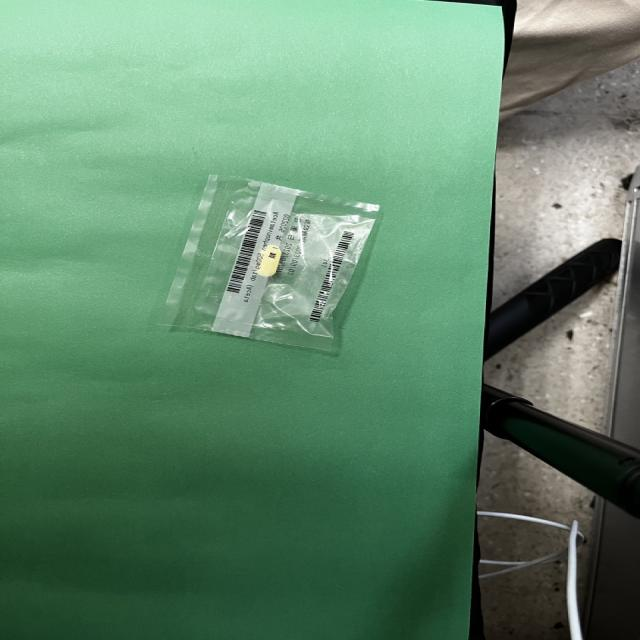Other Objects: (162, 176, 379, 352)
